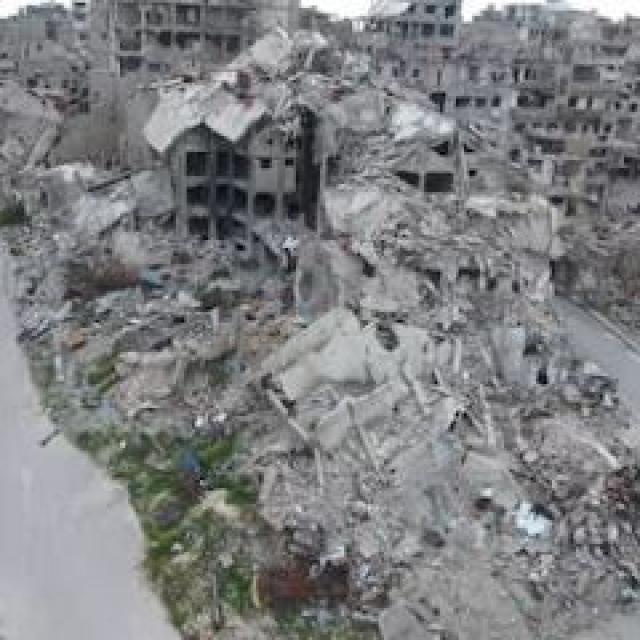collapsed_building: (309, 176, 579, 536), (157, 85, 299, 384)
